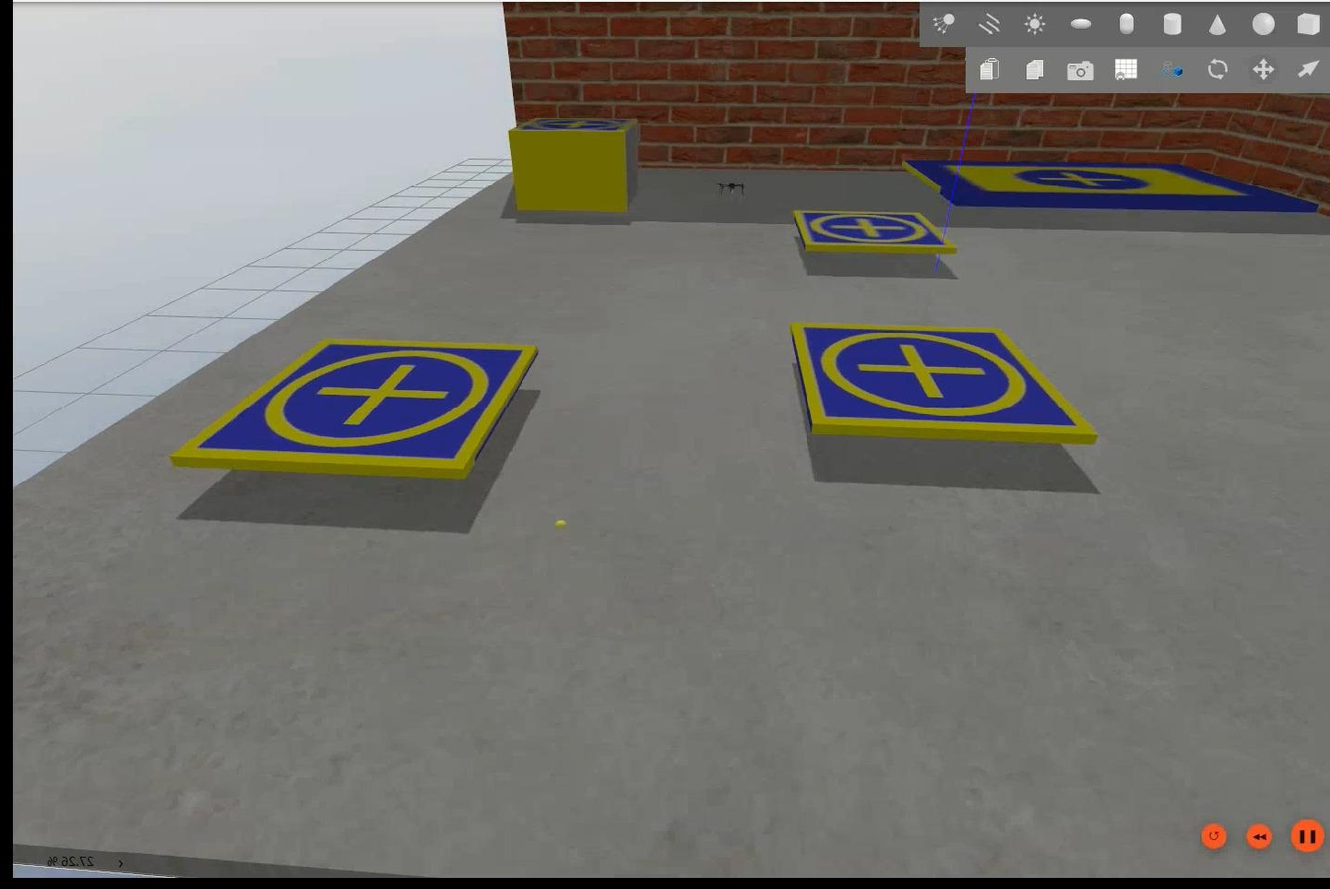large_base: (898, 165, 1313, 212)
small_base: (168, 336, 540, 486), (783, 325, 1094, 439), (789, 207, 953, 260), (505, 113, 640, 141)
